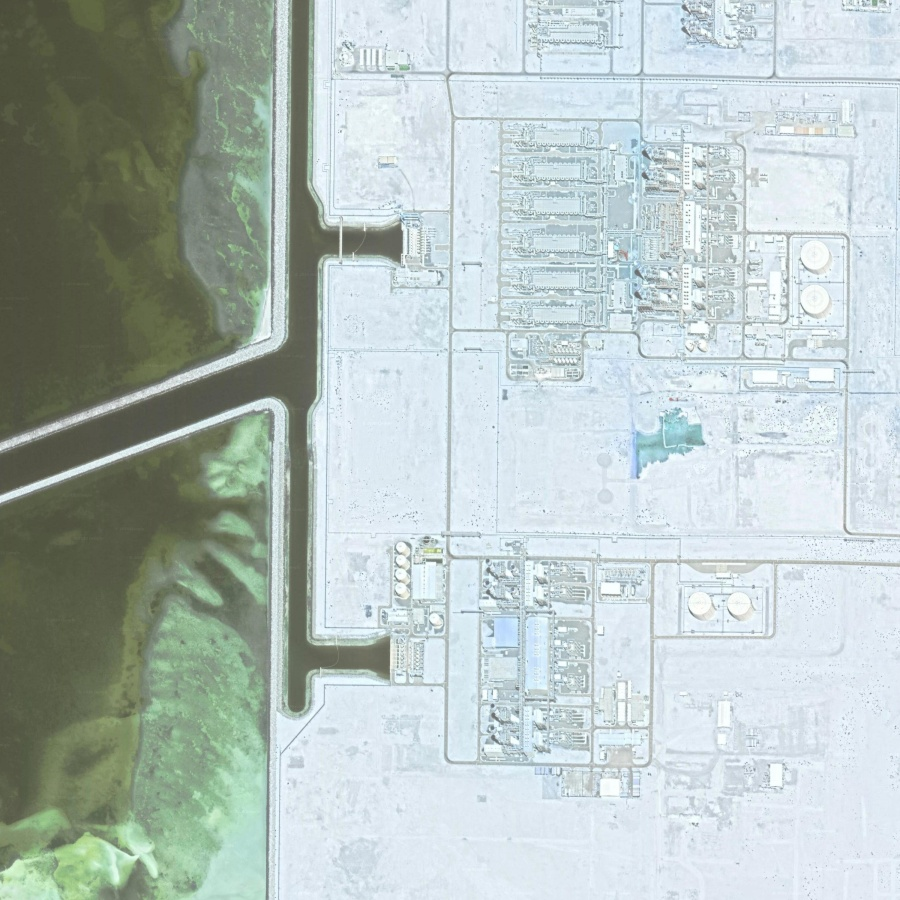PowerPlant: (383, 522, 797, 806), (484, 114, 846, 394)
